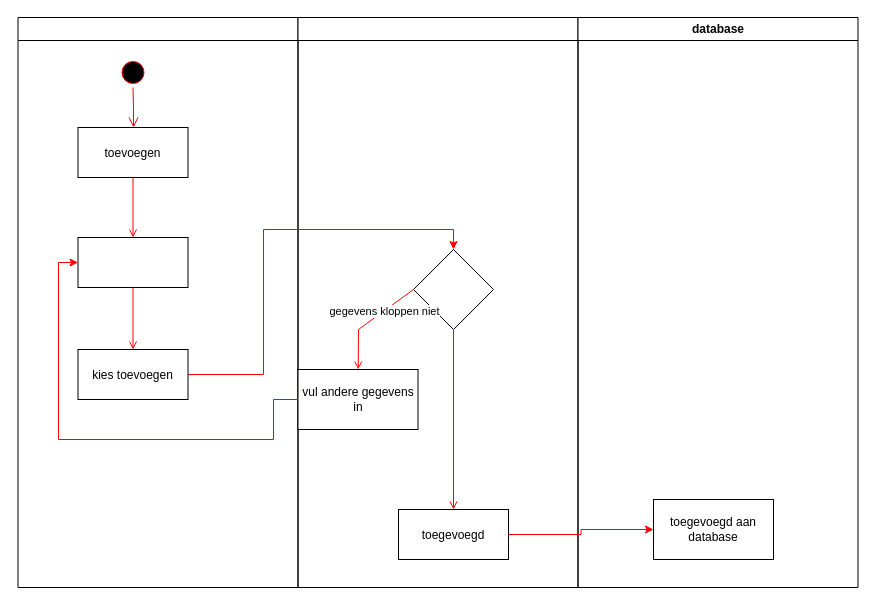
Some shapes in this 875 by 605 pixel diagram are drawn without their labels. Each missing label, with the box of its shape:
beheer: (297, 16, 578, 588)
klant: (17, 16, 298, 588)
vul gegevens in: (77, 236, 188, 288)
